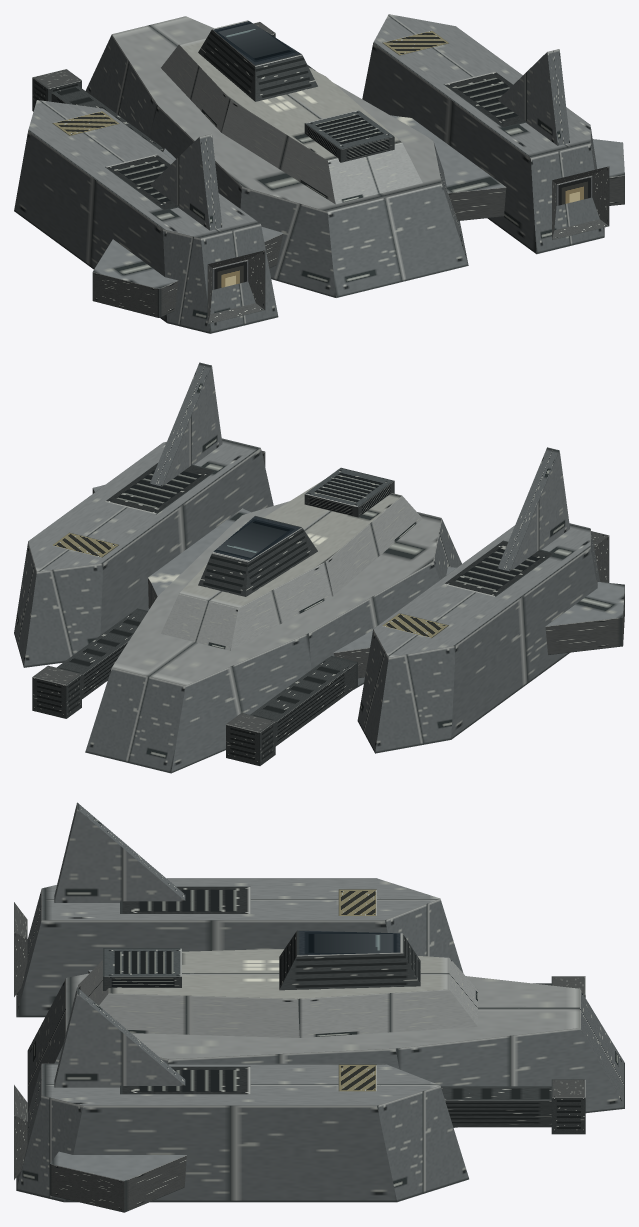
Rendered from GR07_Interceptor.fbx.
3 renders of one model, top to bottom at view 1: azimuth 30°, elevation 25°; view 2: azimuth 150°, elevation 25°; view 3: azimuth 270°, elevation 25°, orthographic. The views are drawn at different scales.
Visible parts, largest first — view 1: GR07_IndustrialInterceptor; view 2: GR07_IndustrialInterceptor; view 3: GR07_IndustrialInterceptor.
Boxes of the visible parts, x1,y1,x2,y2 form: GR07_IndustrialInterceptor: [14, 14, 624, 333]; GR07_IndustrialInterceptor: [14, 362, 624, 773]; GR07_IndustrialInterceptor: [14, 802, 624, 1212].
Bounding box in the file's own units: 296 × 92 × 271.
1 material, 1 textured.
